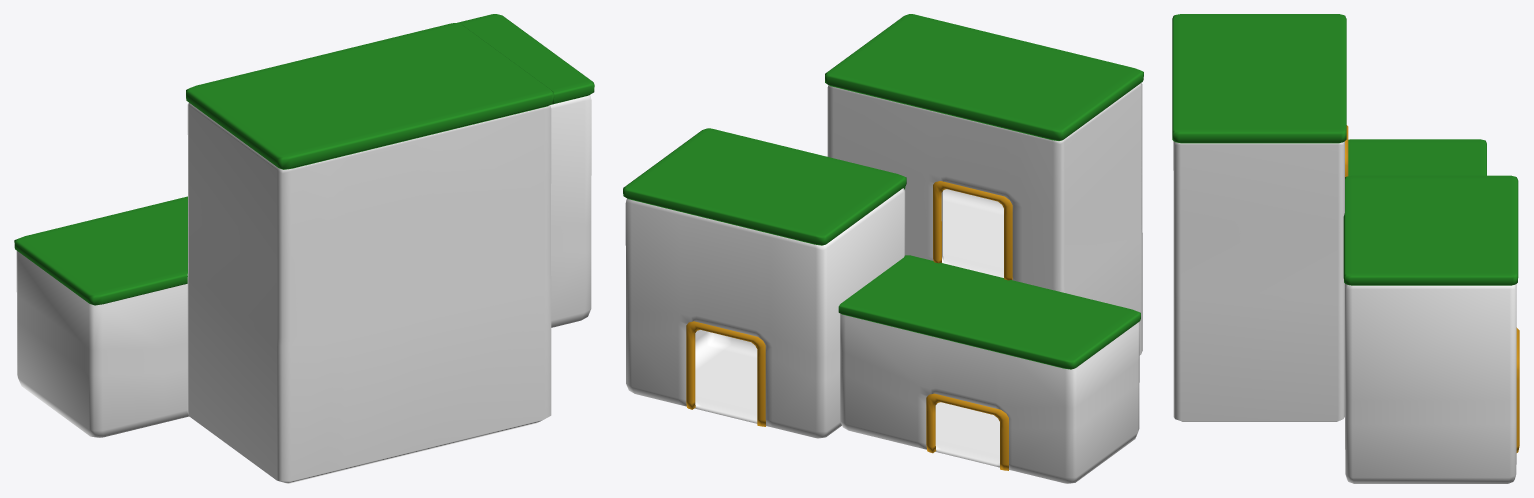
The model's file is HouseWhite3CombinedGreek.fbx.
The picture shows the model from 3 angles, left to right: view 1: azimuth 30°, elevation 25°; view 2: azimuth 150°, elevation 25°; view 3: azimuth 270°, elevation 25°; orthographic projection. The views are drawn at different scales.
Parts seen in each view (by area): view 1: HouseTall1; view 2: HouseTall1; view 3: HouseTall1.
Boxes of the visible parts, box(x1,y1,x2,y2) form: HouseTall1: box(14, 14, 594, 483); HouseTall1: box(623, 14, 1143, 483); HouseTall1: box(1172, 14, 1519, 483).
Bounding box in the file's own units: 6.36 × 4.02 × 4.26.
Materials: 1 (1 with a texture image).
